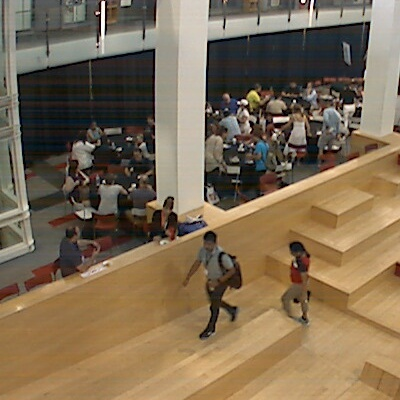head: (200, 229, 221, 250), (287, 241, 310, 259), (63, 222, 83, 242), (134, 172, 151, 190), (103, 170, 120, 187), (129, 147, 148, 162), (67, 158, 82, 174), (162, 197, 177, 211), (289, 102, 304, 116), (218, 91, 234, 104), (235, 98, 251, 111), (88, 121, 102, 134), (303, 78, 315, 93), (250, 130, 266, 141), (324, 96, 338, 108), (220, 105, 233, 117), (251, 82, 264, 93), (145, 114, 156, 124), (343, 82, 353, 90)
